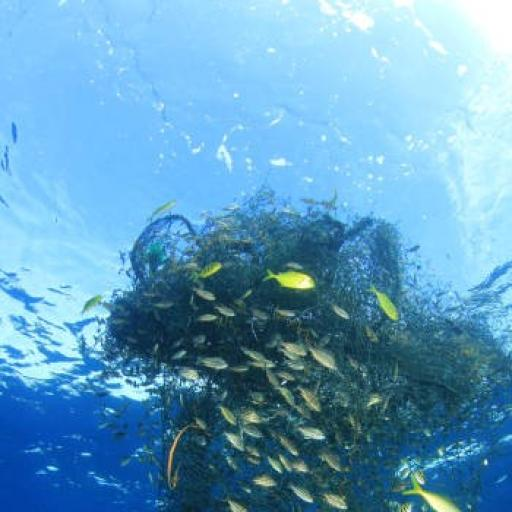net: (83, 180, 512, 512)
